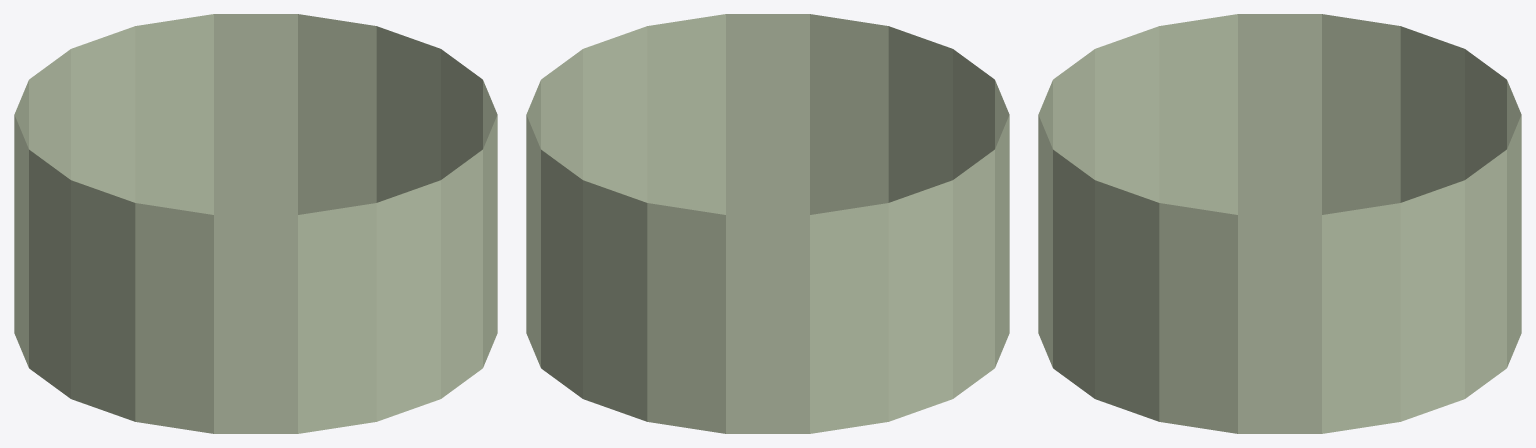
File: Reel.fbx
3 views of the same model, side by side, from view 1: azimuth 30°, elevation 25°; view 2: azimuth 150°, elevation 25°; view 3: azimuth 270°, elevation 25° (orthographic).
Visible parts, largest first — view 1: Cylinder; view 2: Cylinder; view 3: Cylinder.
Part boxes in pixels (x1=…): Cylinder: x1=14, y1=14, x2=497, y2=433; Cylinder: x1=526, y1=14, x2=1009, y2=433; Cylinder: x1=1038, y1=14, x2=1521, y2=433.
Size of the model in its own units: 197 by 100 by 200.
